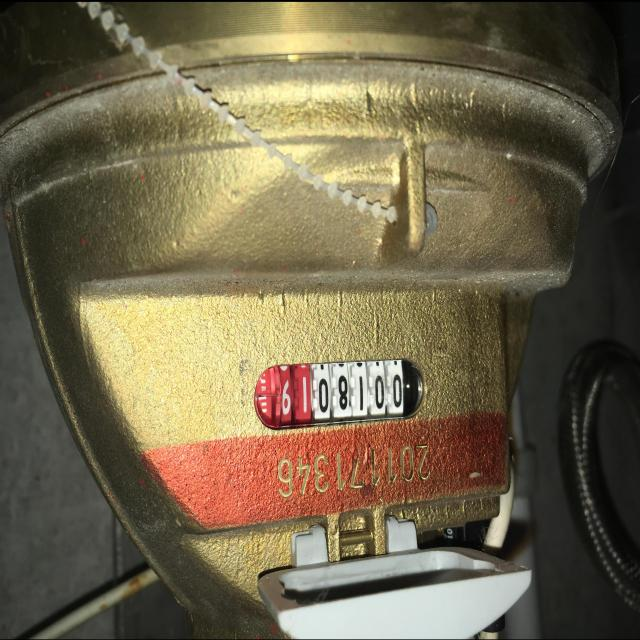gaz_meter: (79, 280, 534, 559)
indication: (264, 362, 407, 421)
